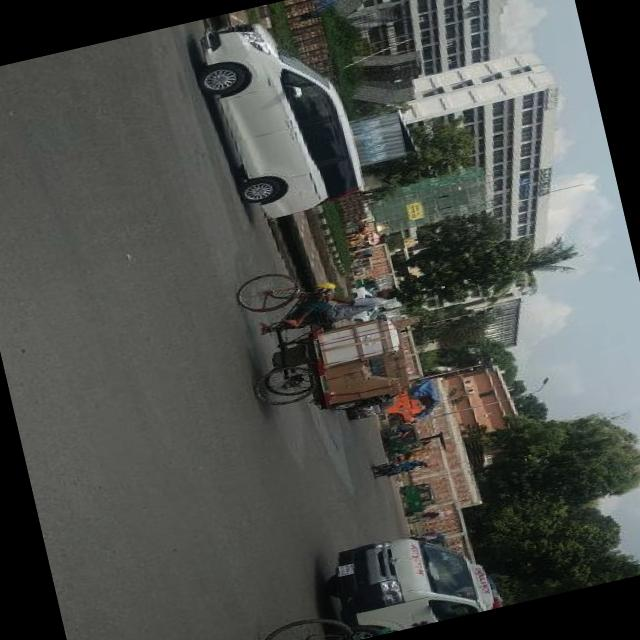motorcycle: (396, 478, 441, 518), (370, 453, 427, 479), (384, 440, 421, 458), (348, 256, 378, 276), (352, 274, 377, 288), (350, 247, 374, 260)
truck: (181, 0, 369, 231), (305, 515, 506, 640)
